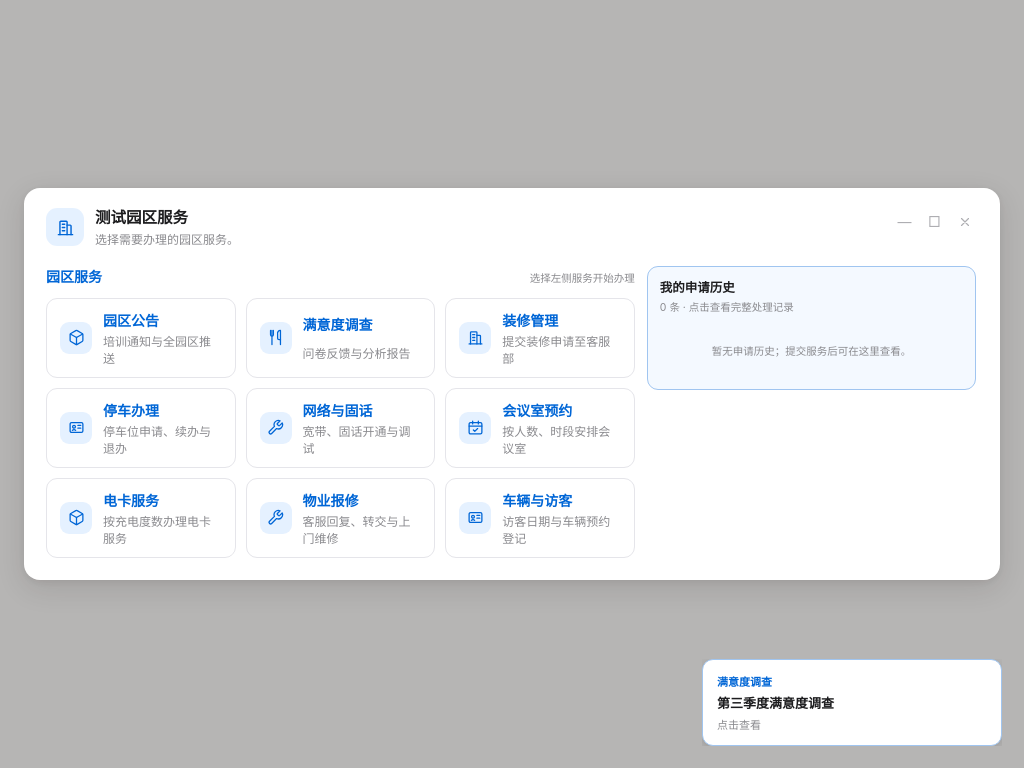
ParkServicesPlugin › 满意度调查实名提交一次，界面不包含发布端
The image size is (1024, 768).
Click the text "满意度调查" below "选择左侧服务开始办理" at (338, 324), box [303,316,373,333]
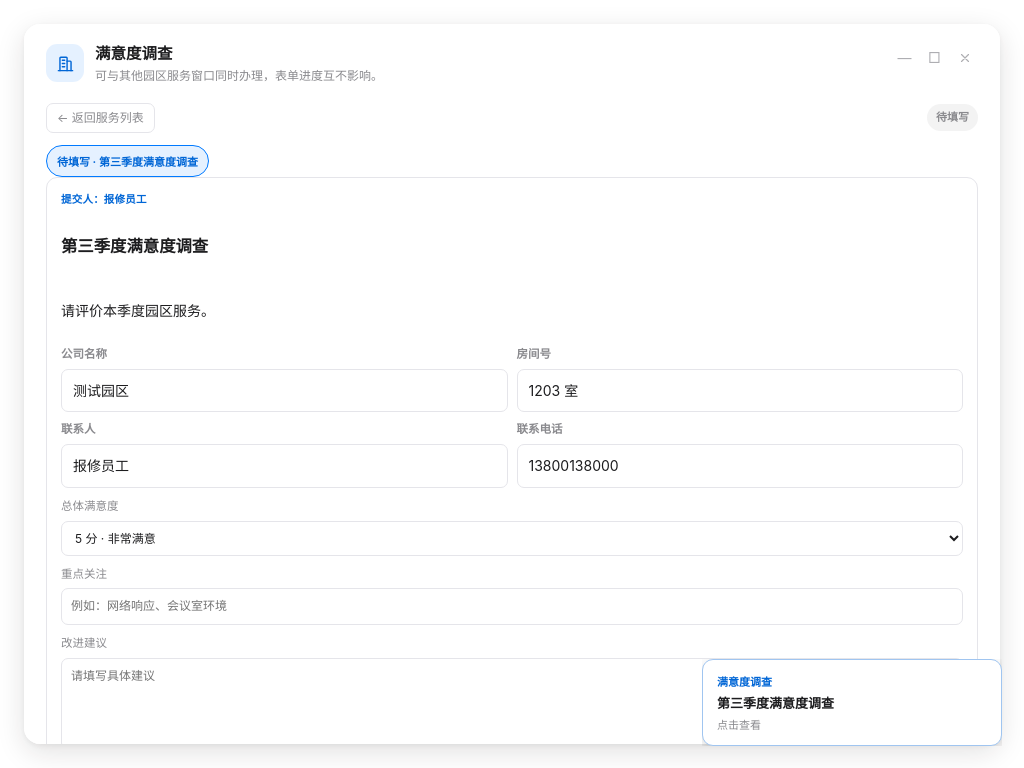
Expected: the field labelled "公司名称" holds "测试园区", [61,369,508,412]
Expected: the field labelled "房间号" holds "1203 室", [516,369,963,412]
Expected: the field labelled "联系人" holds "报修员工", [61,444,508,488]
Select "4 分 · 满意" in the dropdown labelled "总体满意度" at (512, 538), box [61,521,963,556]
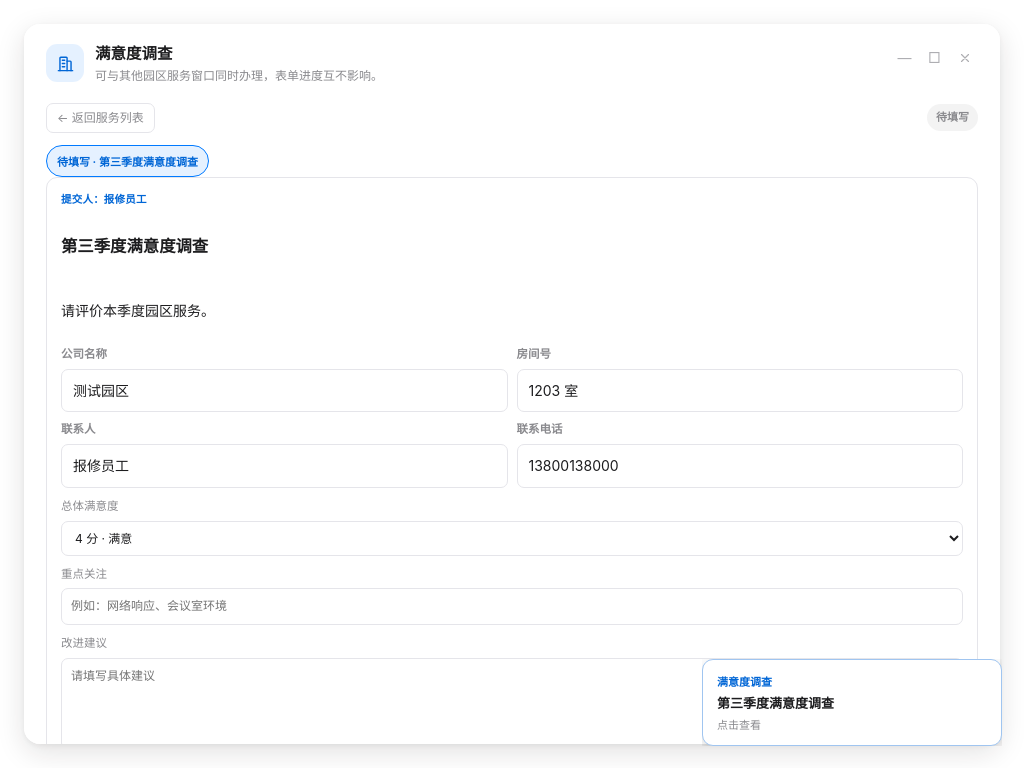
Type "会议室环境" into the field labelled "重点关注" at (512, 607), box [61,588,963,625]
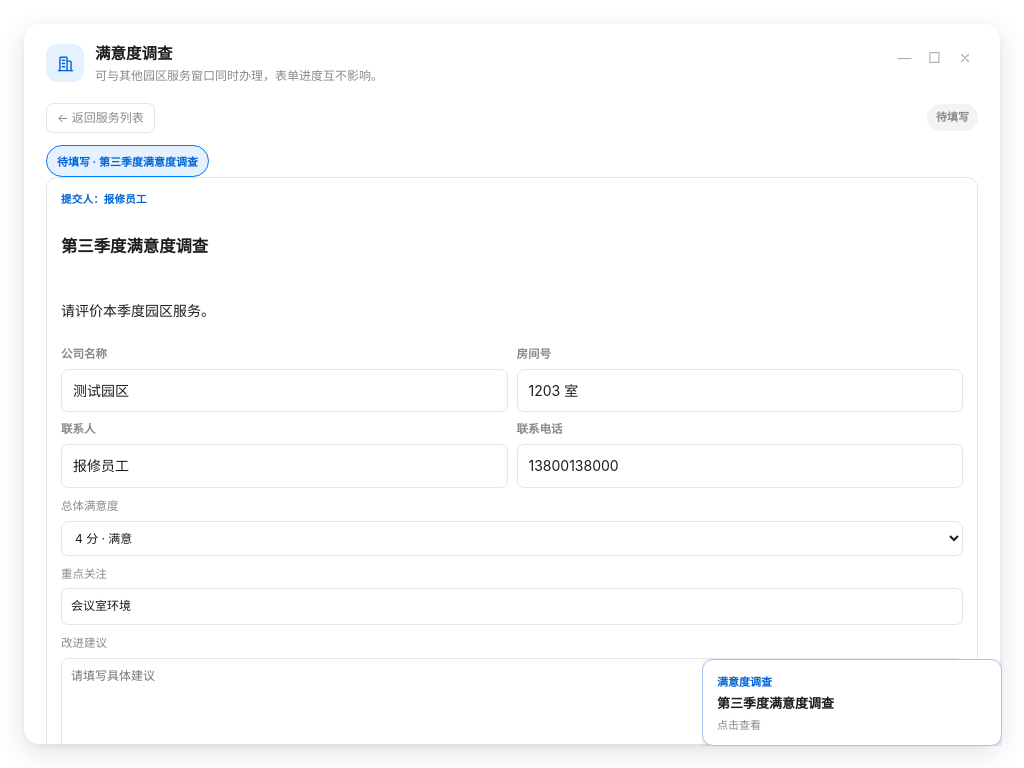
Type "希望加强巡检" into the text box labelled "改进建议" at (512, 704), box [61,658,963,750]
(page scrolled)
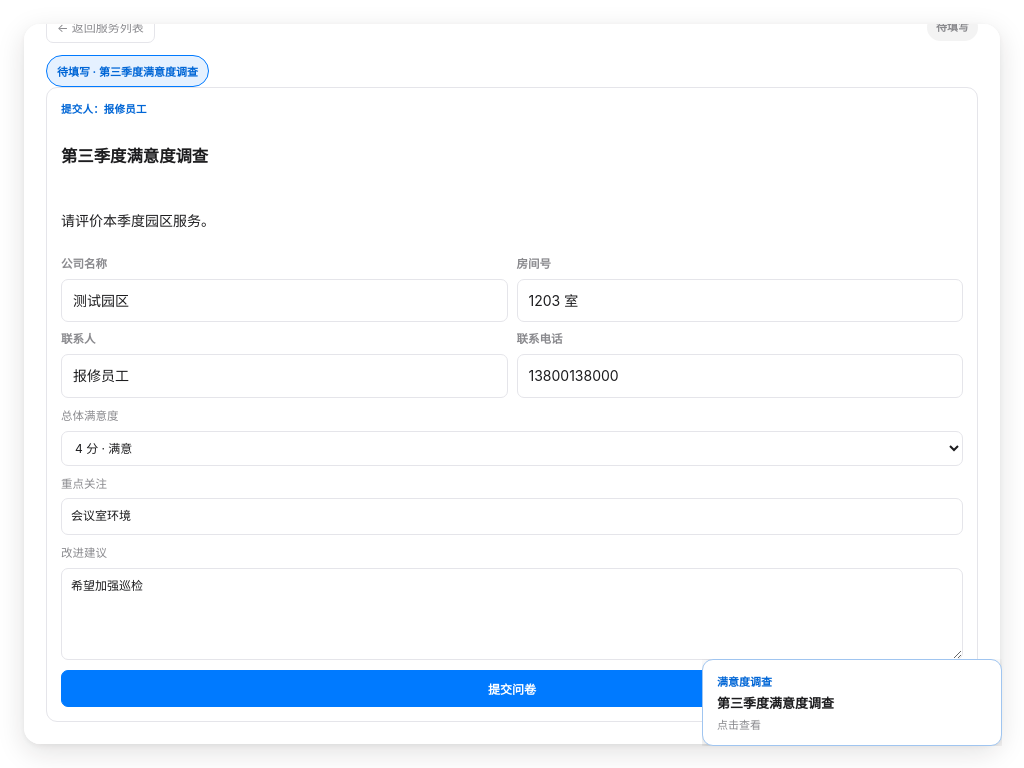
Submit the form named "员工填写满意度调查"
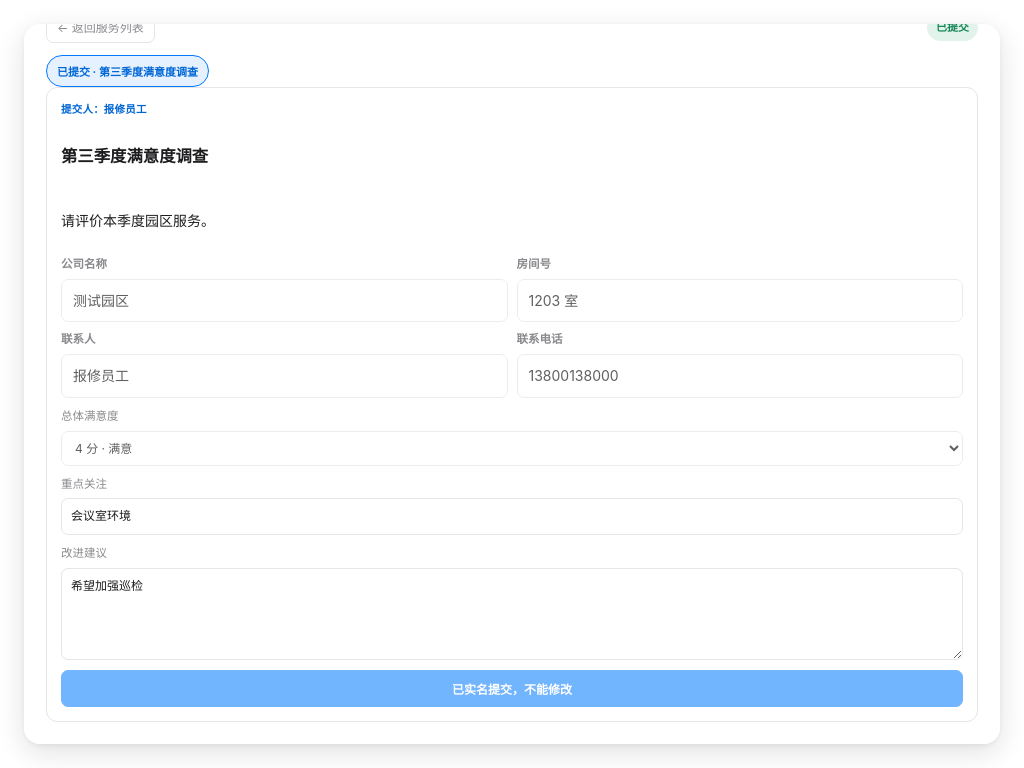
Expected: the button "已实名提交，不能修改" is disabled, [61,670,963,707]
